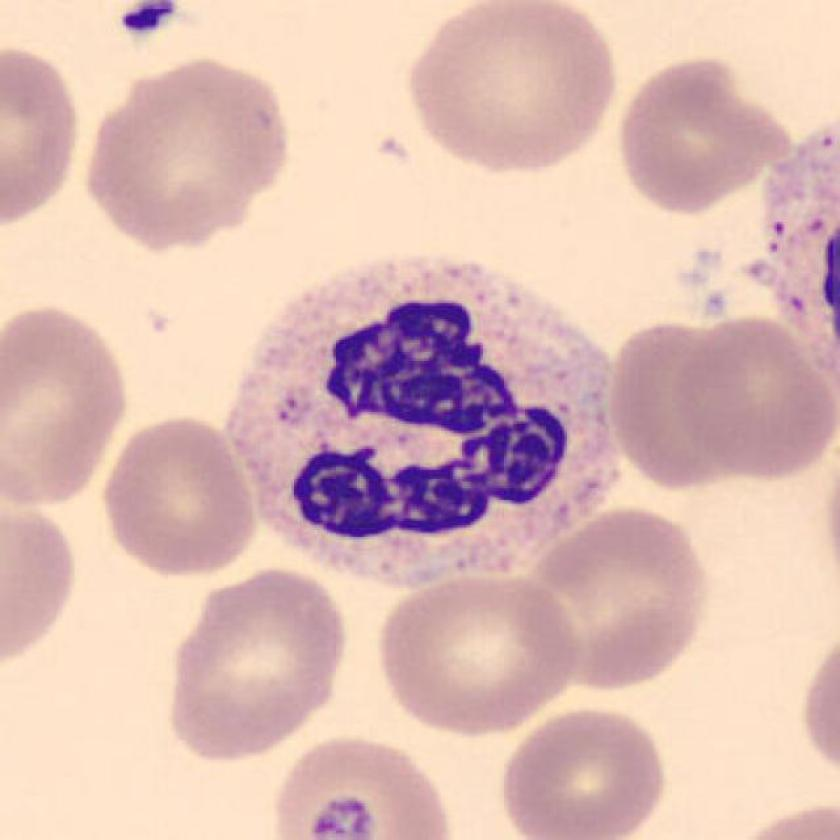neutrophil: (224, 256, 623, 584)
